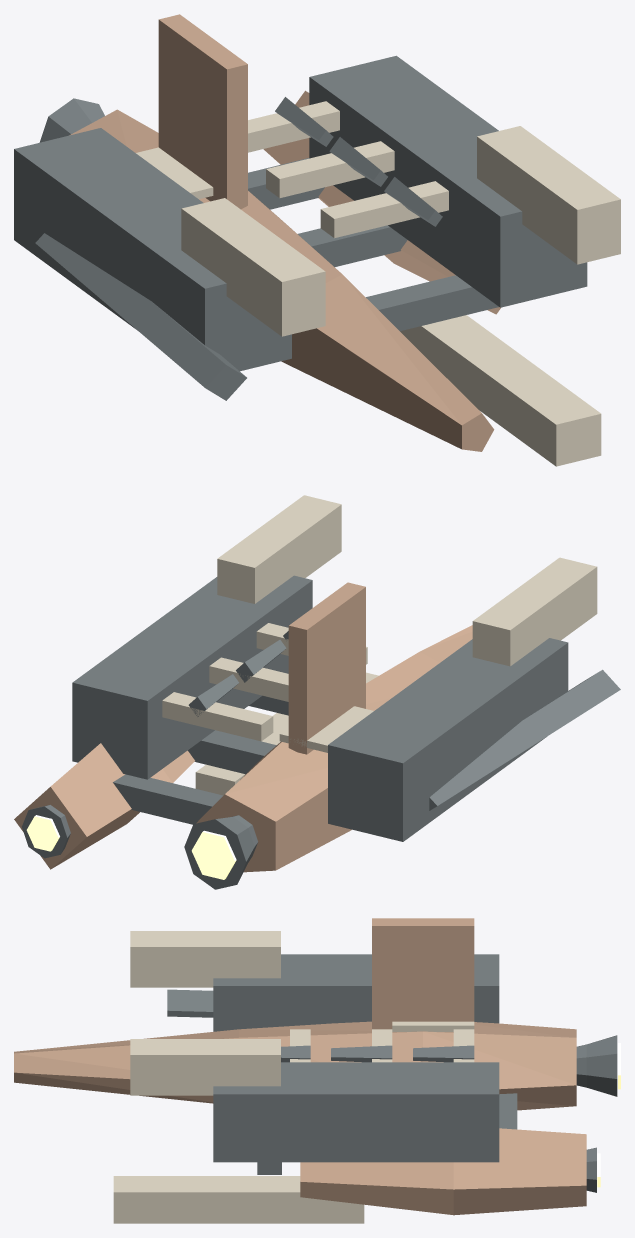
3 views of the same model, one above another, from view 1: azimuth 30°, elevation 25°; view 2: azimuth 150°, elevation 25°; view 3: azimuth 270°, elevation 25° (orthographic). The views are drawn at different scales.
Bounding box in the file's own units: 9.94 × 6.79 × 16.12.
